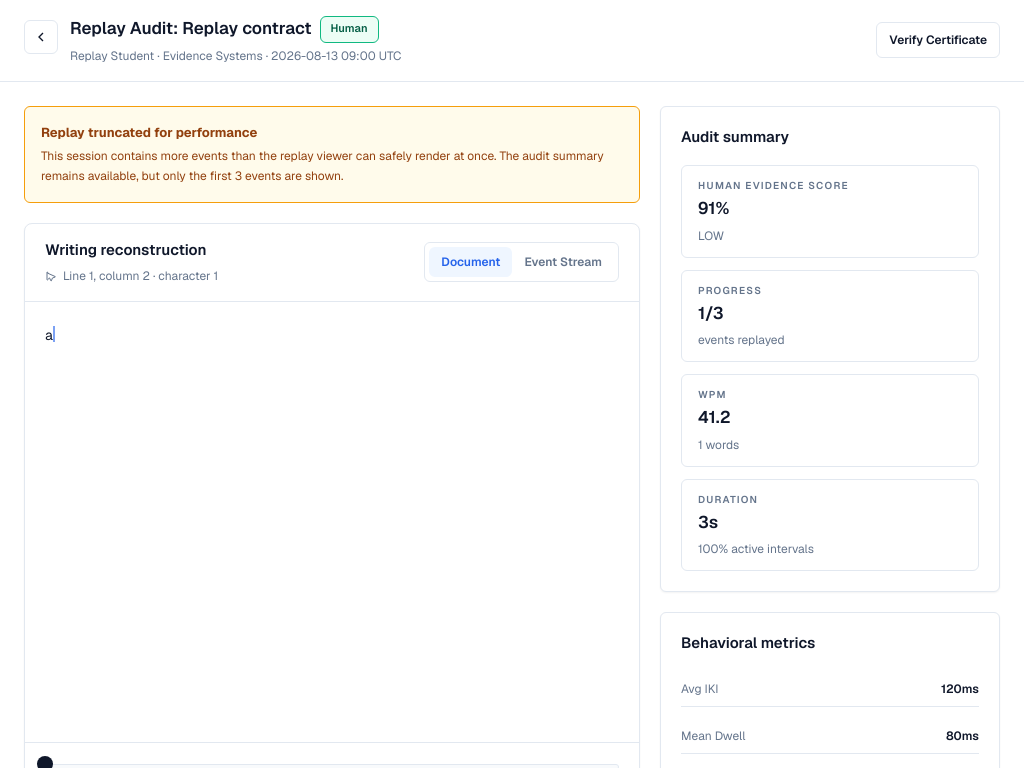
Test: ReplayPage › switches to the event stream, seeks with transport controls, and restarts
Expected: the heading "Replay Audit: Replay contract" is shown, [70,17,312,41]
Click the button "Event Stream".
click(563, 262)  # box [512,247,614,277]
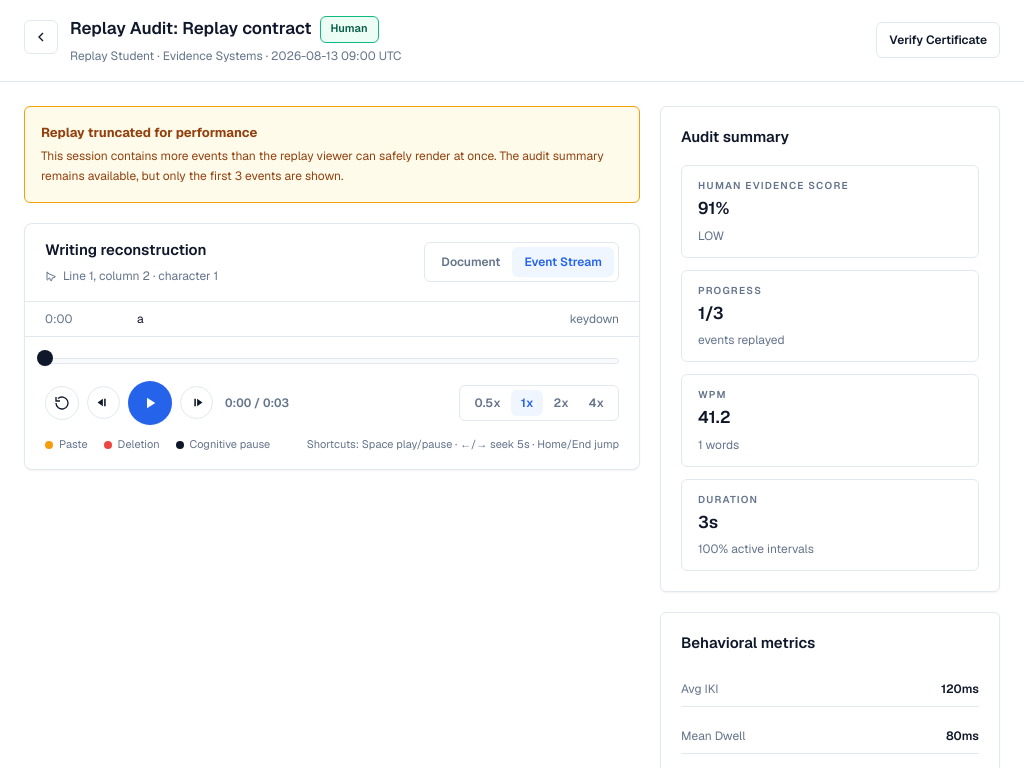
Now the text "keydown" is shown, box [570,310,619,326]
Click the button named "Forward 5 seconds".
click(196, 402)  # box [180,386,213,419]
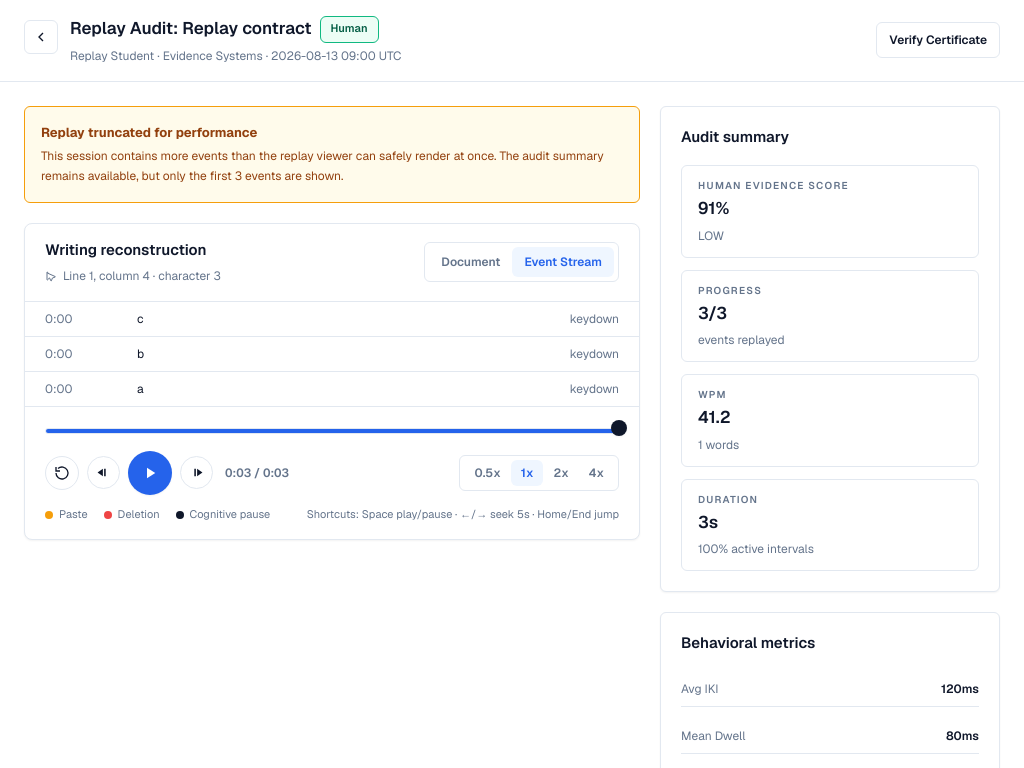
Now the text "c" is shown, box [137,310,144,326]
Now the text "0:03 / 0:03" is shown, box [225,464,289,482]
Click the button named "Restart".
click(62, 472)  # box [45,456,79,490]
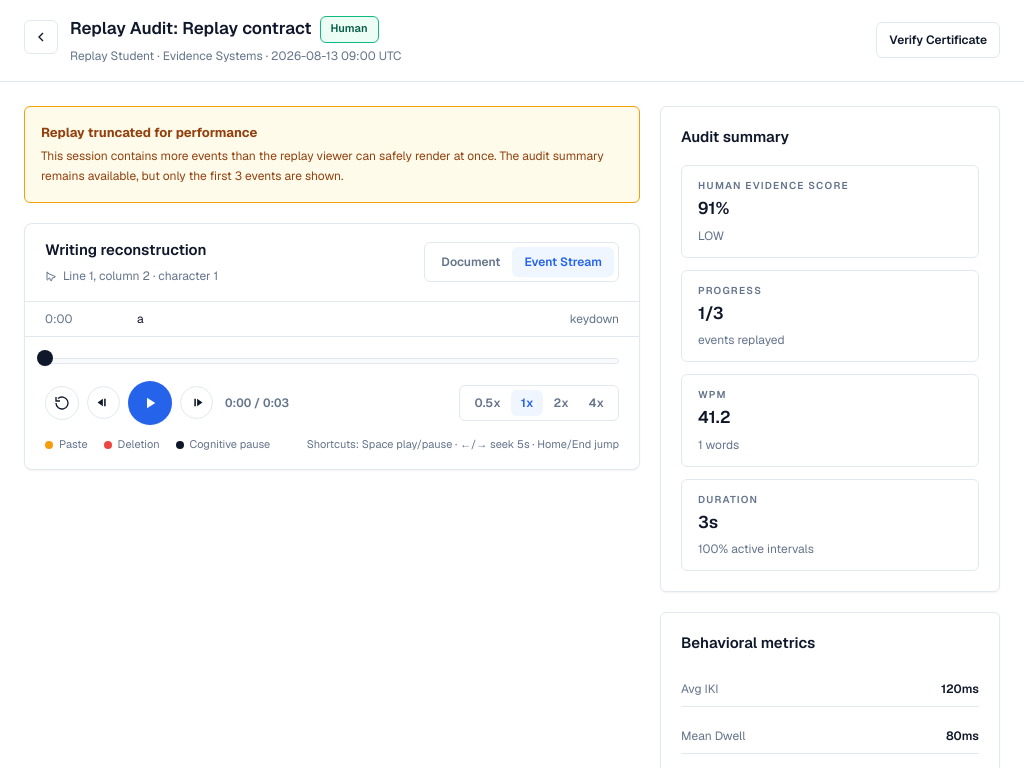
Now the text "0:00 / 0:03" is shown, box [225,394,289,412]
